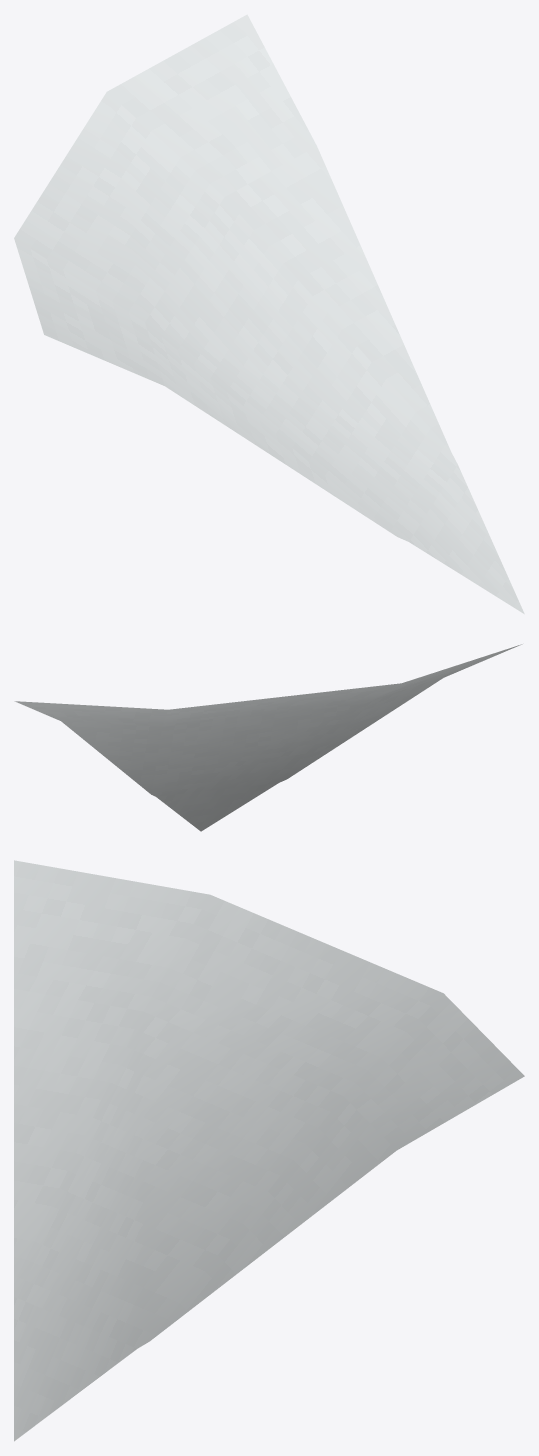
Rendered from spheroid_medium_0_1_1.obj.
3 views of the same model, one above another, from view 1: azimuth 30°, elevation 25°; view 2: azimuth 150°, elevation 25°; view 3: azimuth 270°, elevation 25° (orthographic). The views are drawn at different scales.
Visible parts, largest first — view 1: spheroid_medium_0_1_1; view 2: spheroid_medium_0_1_1; view 3: spheroid_medium_0_1_1.
Part boxes in pixels (bbox=[...]): spheroid_medium_0_1_1: bbox=[14, 14, 524, 614]; spheroid_medium_0_1_1: bbox=[14, 644, 522, 831]; spheroid_medium_0_1_1: bbox=[14, 860, 524, 1441].
Bounding box in the file's own units: 2.8 × 2.21 × 2.8.
